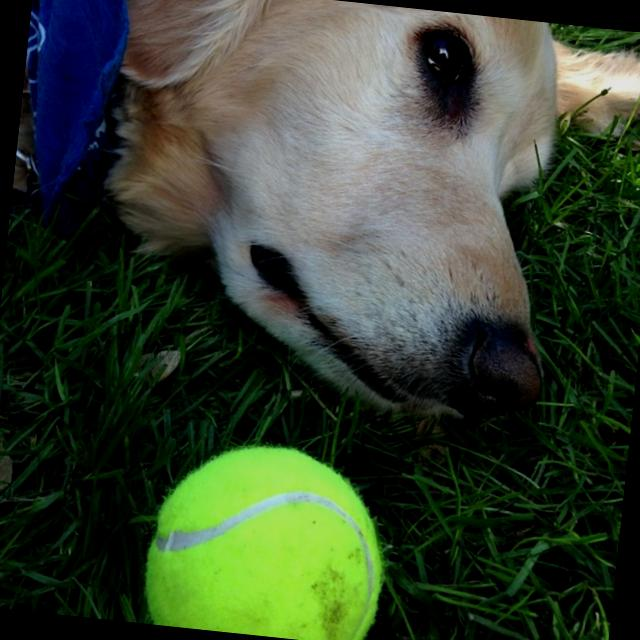Tennis Ball: (138, 429, 399, 640)
